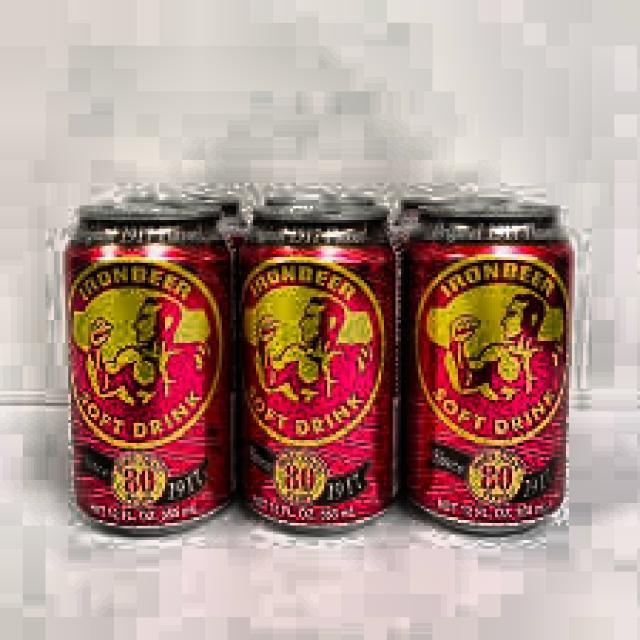Aluminum Can: (402, 202, 576, 541), (62, 203, 236, 536), (237, 200, 407, 534)
